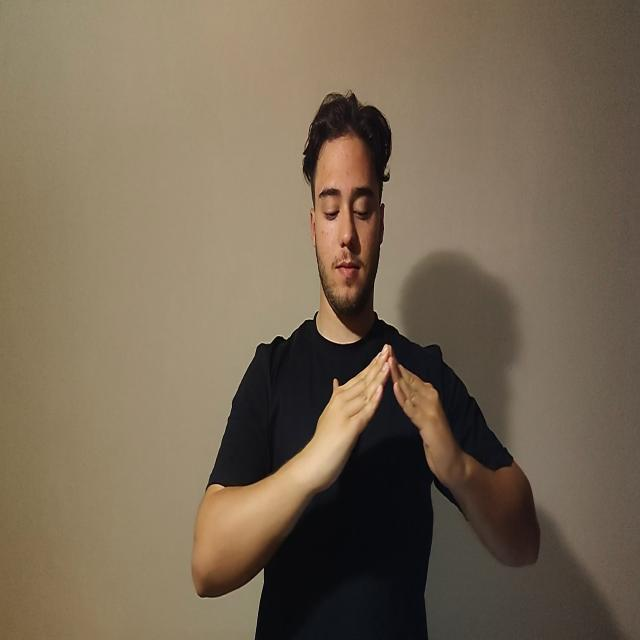house: (303, 342, 463, 500)
